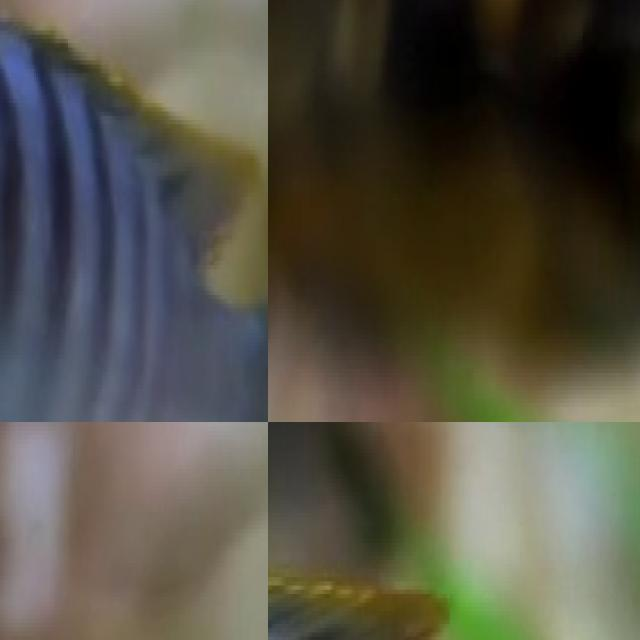fish: (0, 0, 268, 422), (268, 508, 588, 640)
